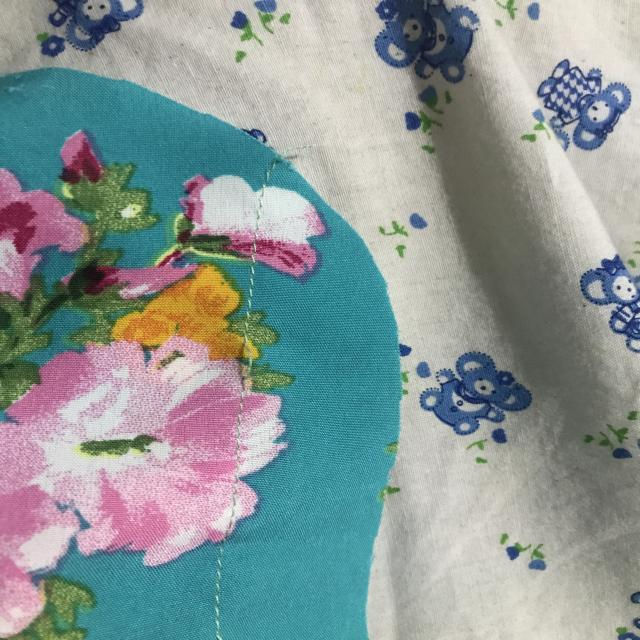good: (239, 260, 259, 310)
skip: (216, 326, 279, 389)
